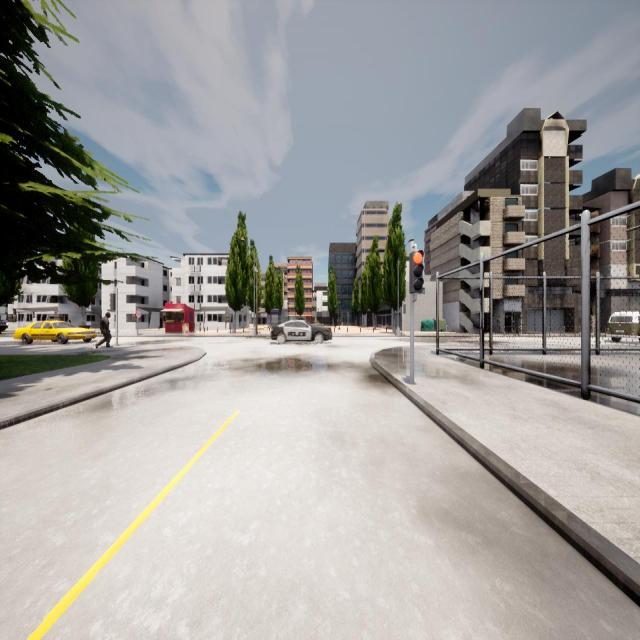Pedestrian: (97, 312, 111, 348)
Traffic_Signs: (135, 311, 141, 318)
Vehicle: (13, 322, 96, 342), (271, 320, 332, 344), (608, 311, 640, 339)
traffic_light: (410, 252, 422, 293)
